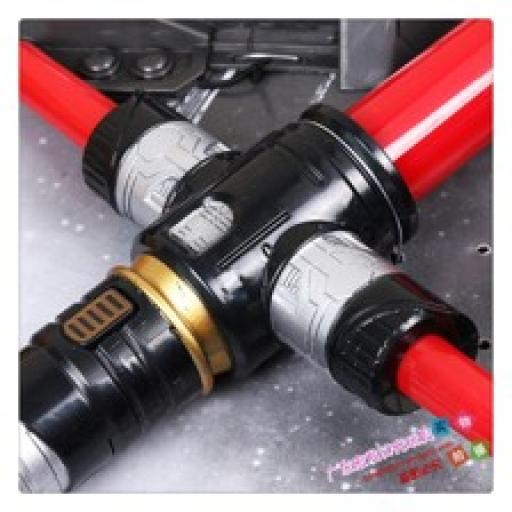lightsaber: (20, 20, 493, 493)
